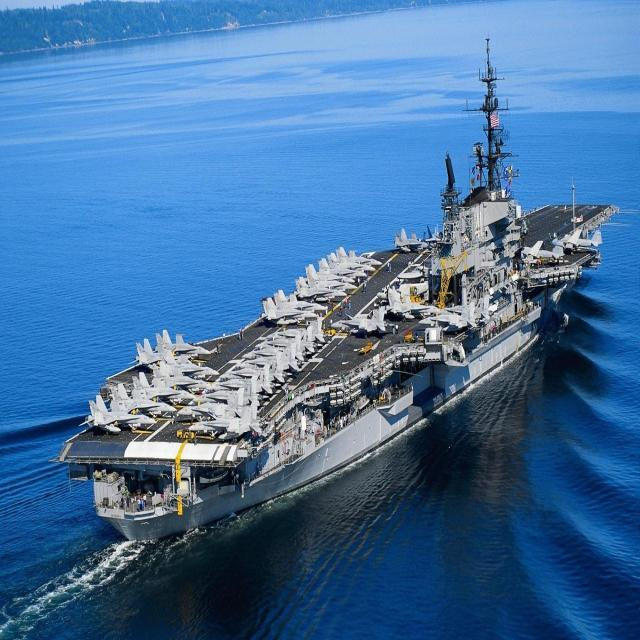Aircraft-Carrier-Vikrant-Class-IND: (57, 29, 619, 565)
